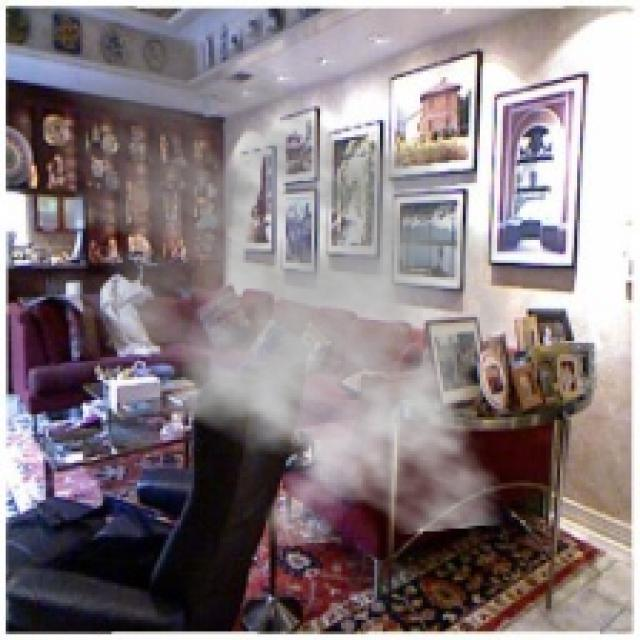Smoke: (0, 29, 540, 548)
